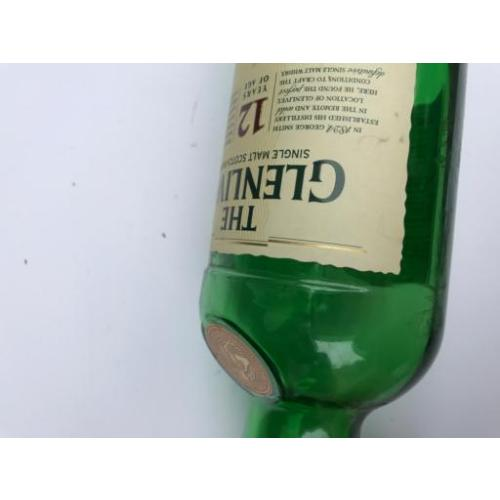glass: (200, 61, 465, 438)
